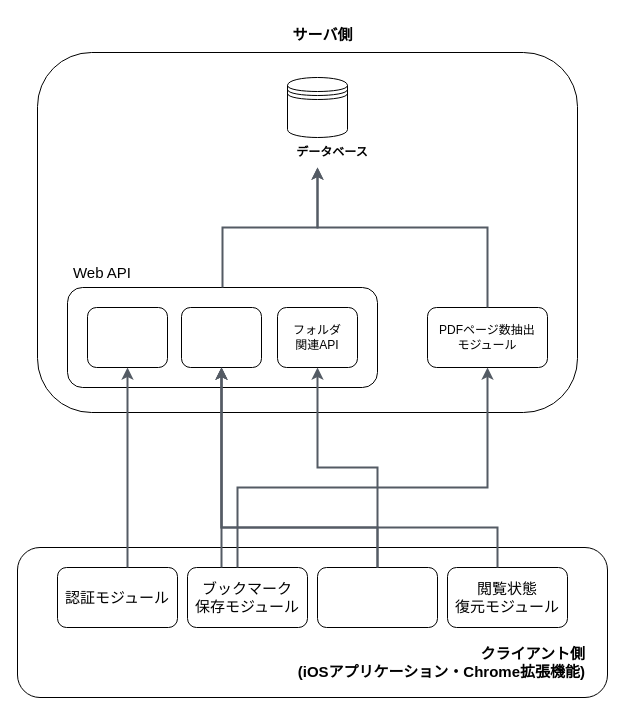
Image size: 625x715. Some labels were removed from this diagram. The shapes that lost their labels are listed below. From the top down, each one's box as (x1, y1, x2, y2) in pixels, then its label:
(86, 306, 168, 368): 認証関連API
(180, 306, 262, 368): コンテンツ 関連API
(316, 566, 438, 628): 一覧モジュール
